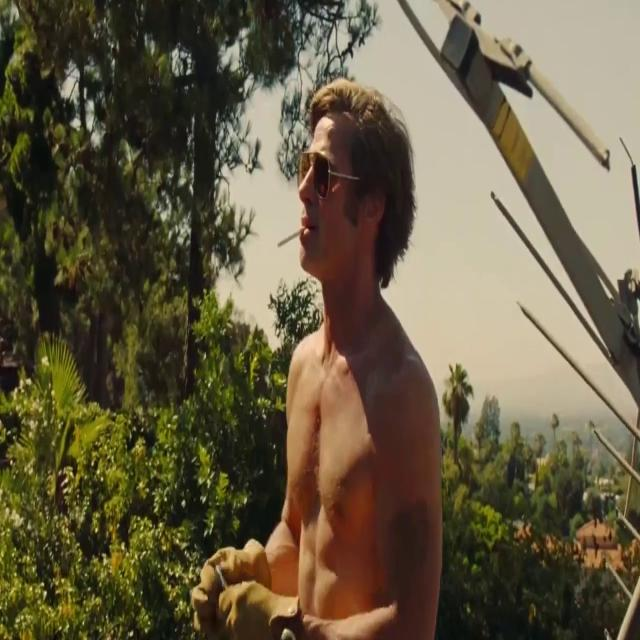Smooking: (270, 223, 306, 258)
